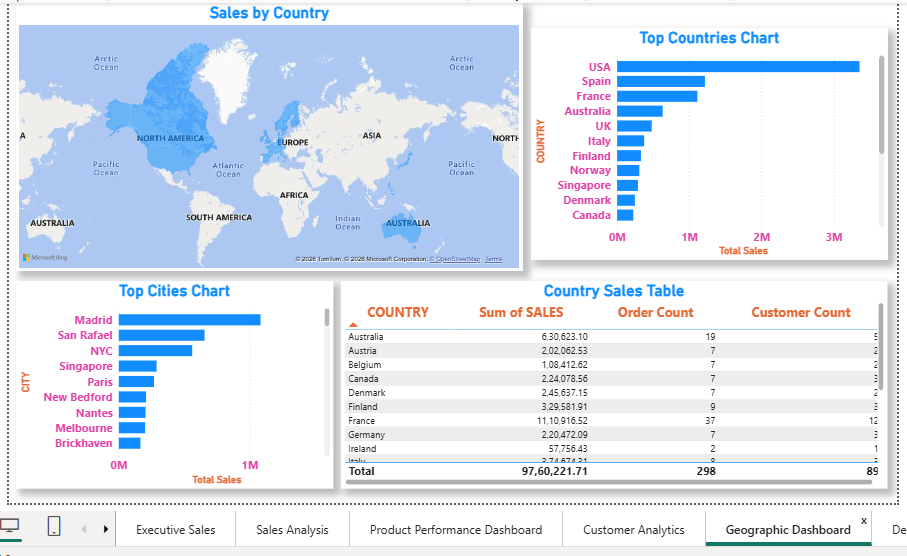

This screenshot's page, from the dashboard's own definition file:
{"tool":"powerbi","page":{"name":"Geographic Dashboard","canvas":[1280,720],"ordinal":4},"visuals":[{"type":"filledMap","title":"Sales by Country","fields":{"Category":["Auto Sales data.COUNTRY"]},"box":[10.1,0,730.1,385.9],"z":0},{"type":"clusteredBarChart","title":"Top Countries Chart","fields":{"Category":["Auto Sales data.COUNTRY"],"Y":["Auto Sales data.Total Sales"]},"box":[751.7,36,514.1,334.1],"z":1000},{"type":"clusteredBarChart","title":"Top Cities Chart","fields":{"Y":["Auto Sales data.Total Sales"],"Category":["Auto Sales data.CITY"]},"box":[10.2,399.9,456.8,299.2],"z":2000},{"type":"tableEx","title":"Country Sales Table","fields":{"Values":["Auto Sales data.COUNTRY","Sum(Auto Sales data.SALES)","Auto Sales data.Order Count","Auto Sales data.Customer Count"]},"box":[478.7,399.9,786.7,299.2],"z":3000}]}

Visuals, with their boxes in screenshot pixels (x1, y1, x2, y2):
"Sales by Country" filledMap: select_region(7, 0, 517, 265)
"Top Countries Chart" clusteredBarChart: select_region(525, 20, 885, 254)
"Top Cities Chart" clusteredBarChart: select_region(7, 275, 326, 484)
"Country Sales Table" tableEx: select_region(335, 275, 884, 484)
